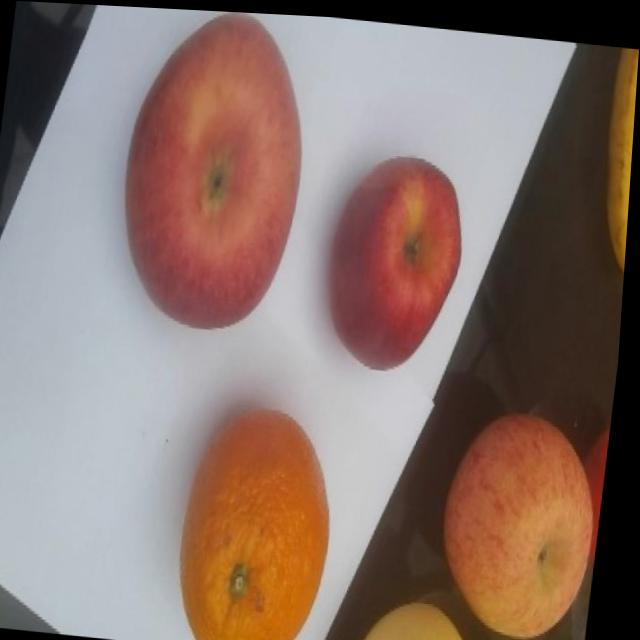Apple: (113, 5, 319, 335), (434, 398, 617, 639), (328, 144, 474, 377)
Banana: (593, 40, 639, 274)
Orange: (174, 395, 354, 640)
